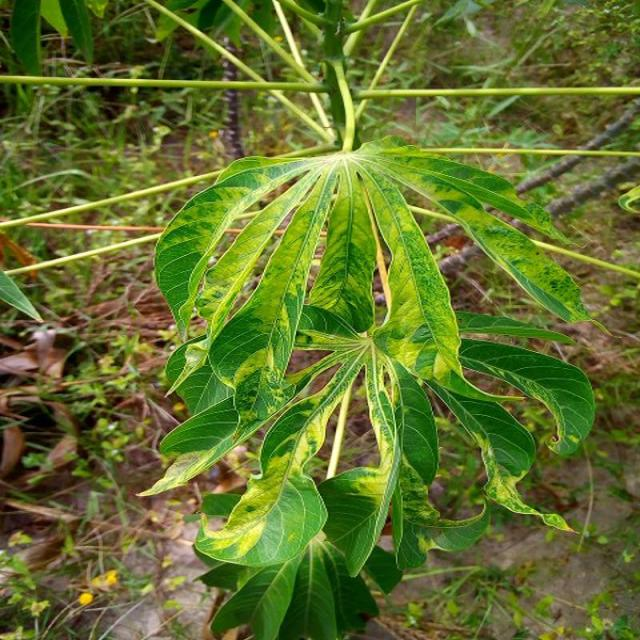cassava leaf: (142, 134, 602, 635)
